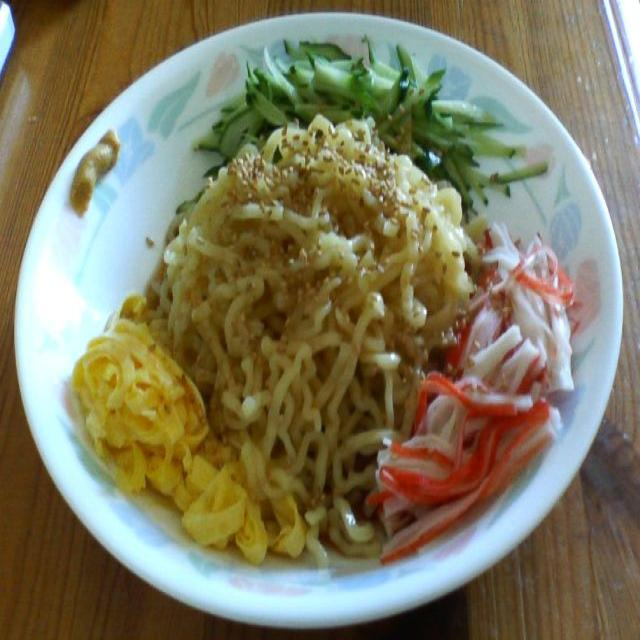面条主食: (6, 11, 630, 634)
